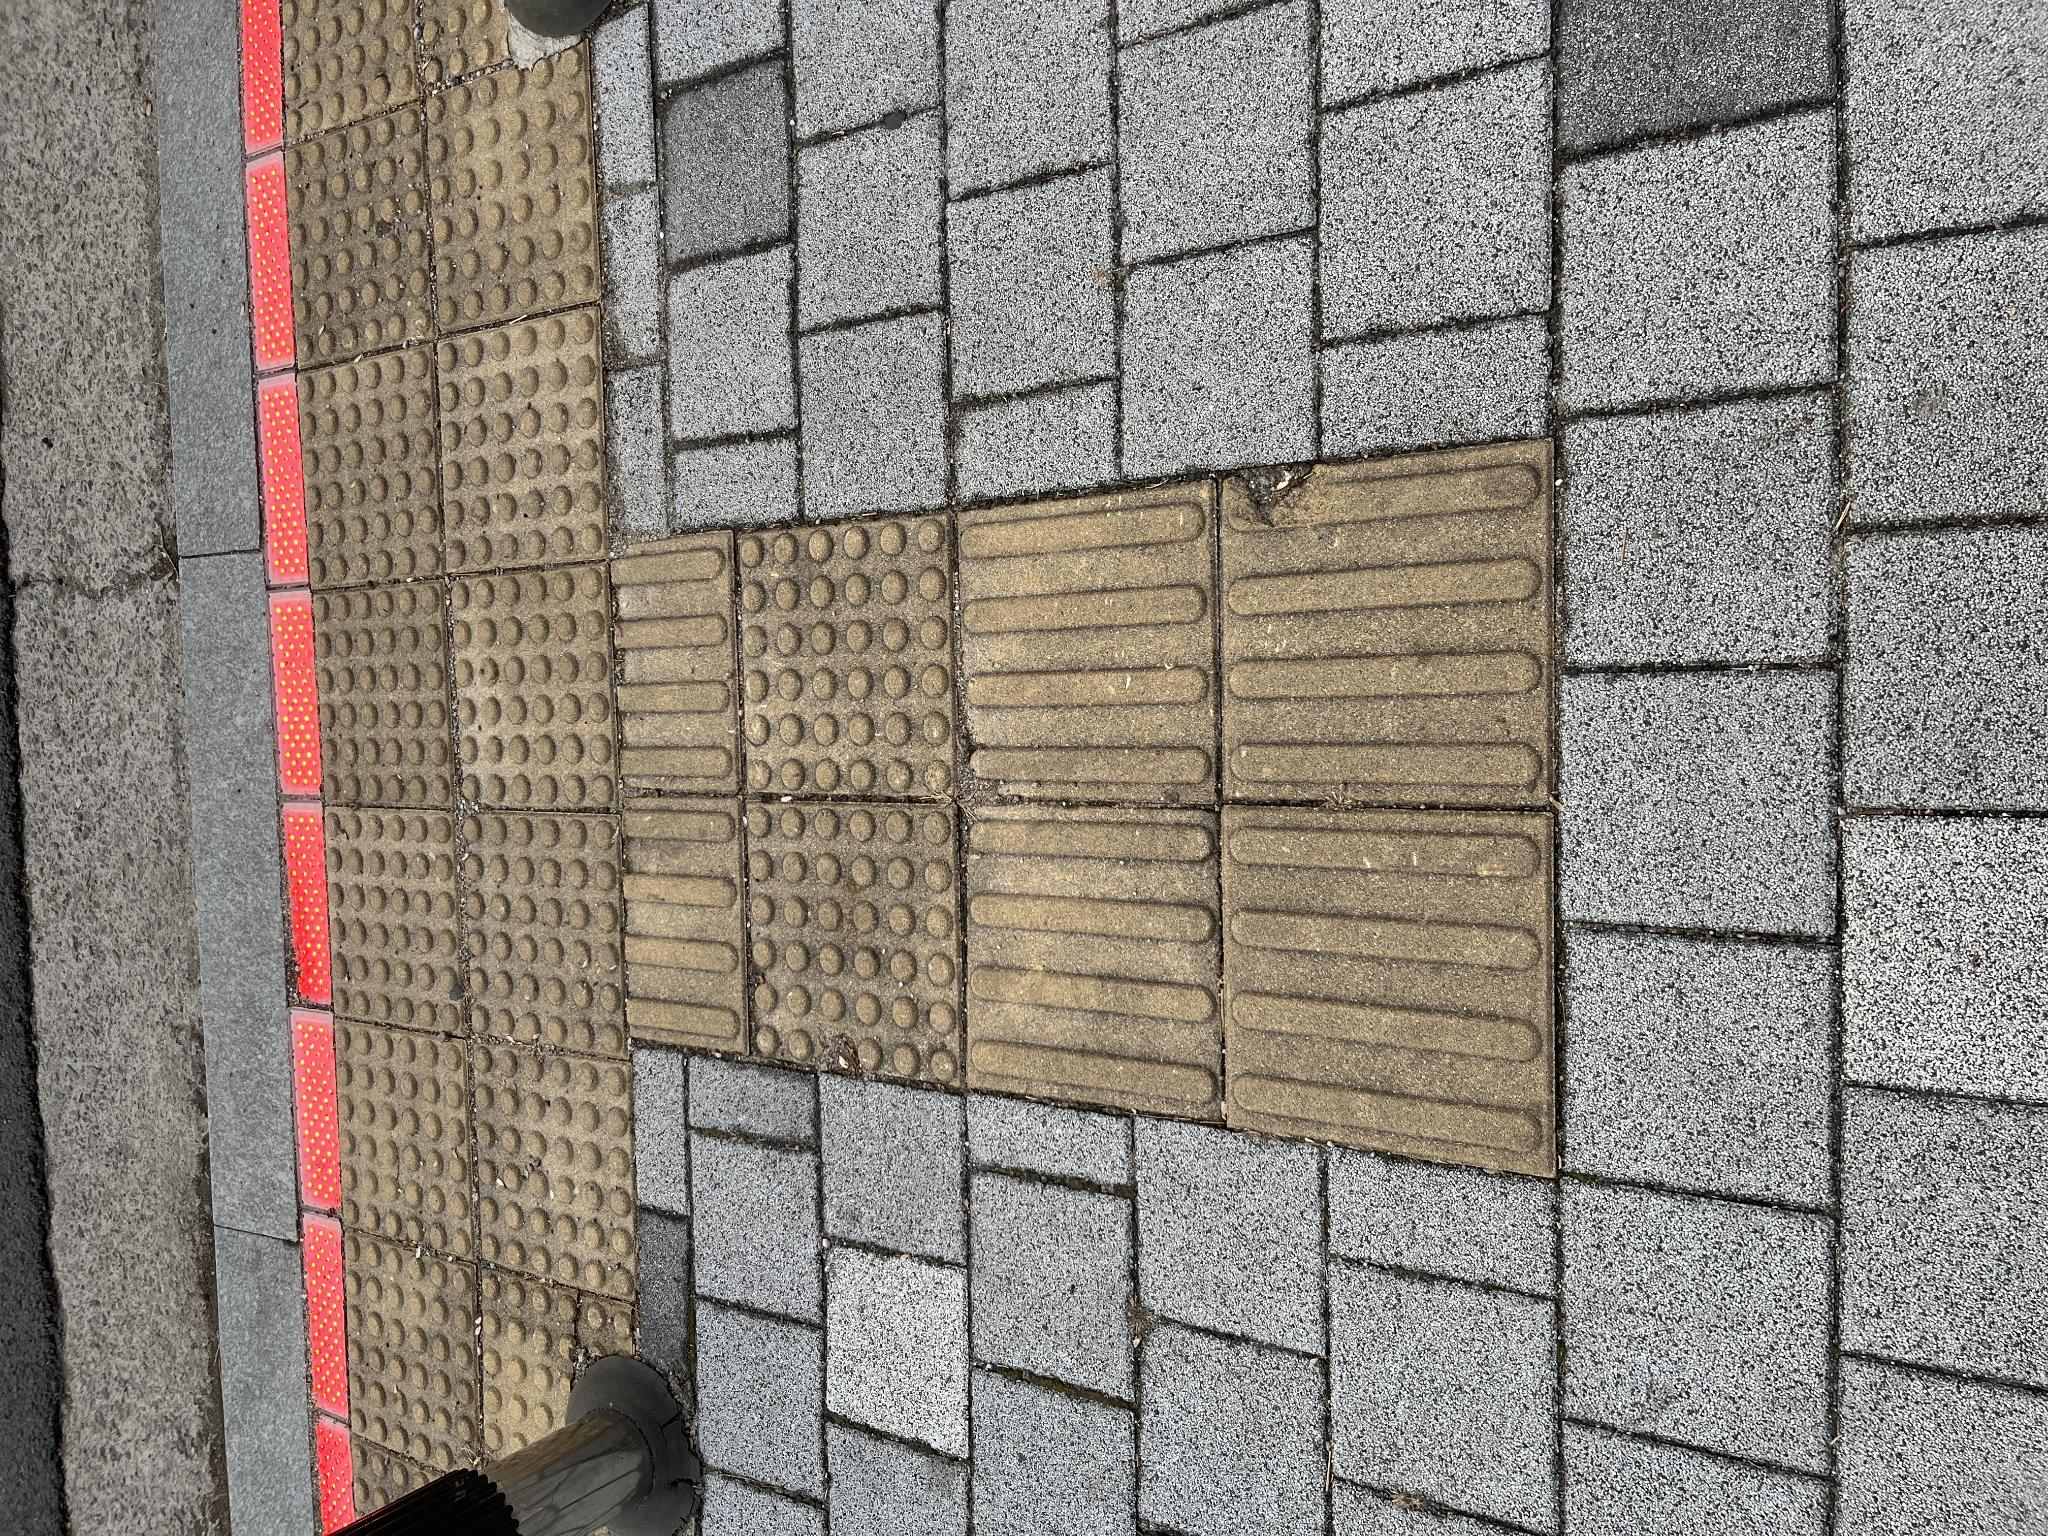Stop block broken: (450, 747, 734, 960)
Stop block normal: (740, 742, 1022, 952), (964, 437, 1227, 605), (235, 476, 493, 632), (481, 461, 724, 626), (731, 450, 971, 616), (948, 298, 1193, 442), (503, 324, 727, 463), (731, 315, 955, 452)
Straight block broken: (732, 1218, 1097, 1536)
Straight block normal: (364, 1221, 727, 1536), (419, 962, 734, 1218), (737, 958, 1053, 1212)
